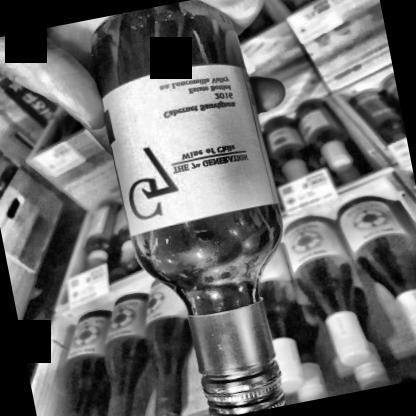G7: (102, 56, 274, 235)
